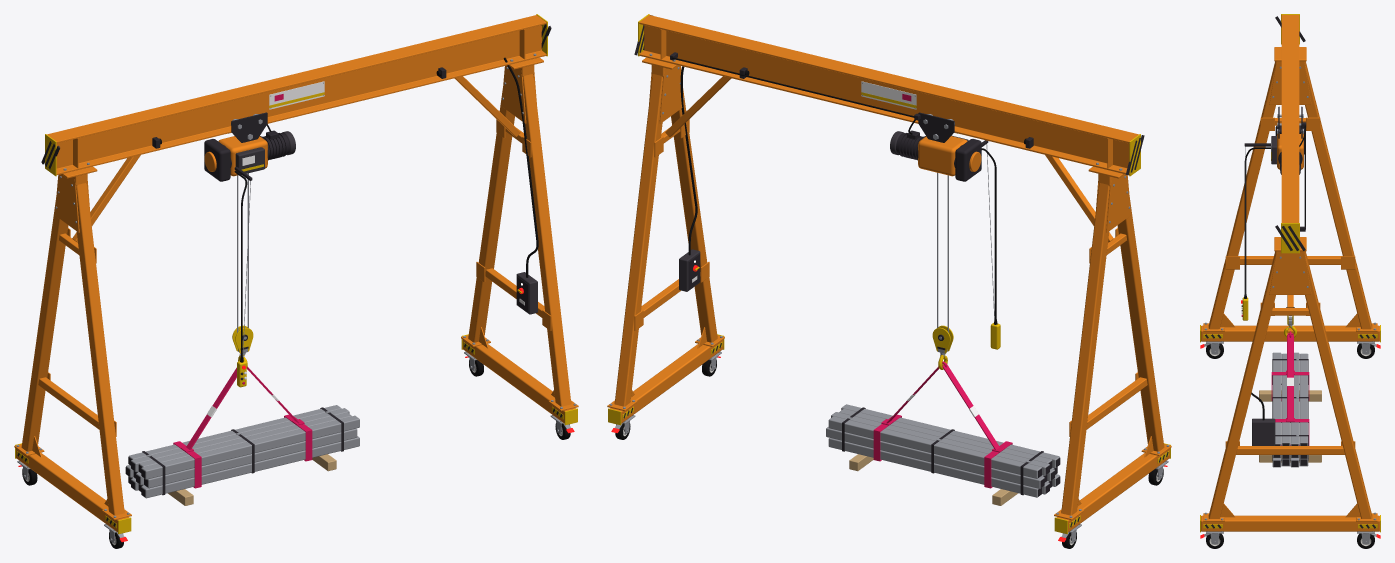
Rendered from gantry.glb.
3 renders of one model, left to right at view 1: azimuth 30°, elevation 25°; view 2: azimuth 150°, elevation 25°; view 3: azimuth 270°, elevation 25°, orthographic. The views are drawn at different scales.
Visible parts, largest first — view 1: beam, sheave, tro_plate; view 2: beam, sheave, tro_plate; view 3: beam, sheave, tro_plate.
Boxes of the visible parts, <box> form: beam: <box>14,14,578,543</box>; sheave: <box>125,325,359,498</box>; tro_plate: <box>204,112,295,387</box>; beam: <box>607,14,1171,543</box>; sheave: <box>826,325,1060,497</box>; tro_plate: <box>890,112,1000,349</box>; beam: <box>1200,14,1380,544</box>; sheave: <box>1271,307,1309,467</box>; tro_plate: <box>1241,106,1306,320</box>.
Size of the model in its own units: 5.52 by 4.11 by 2.01.
